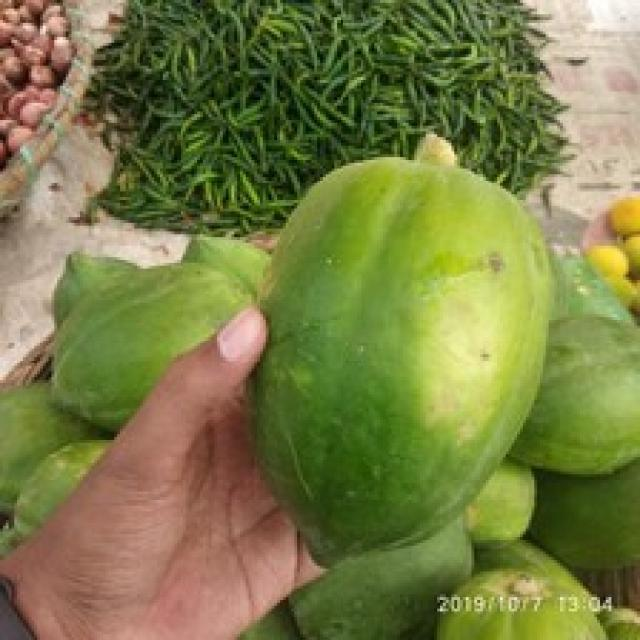Pepaya unrippen: (254, 138, 557, 575)
